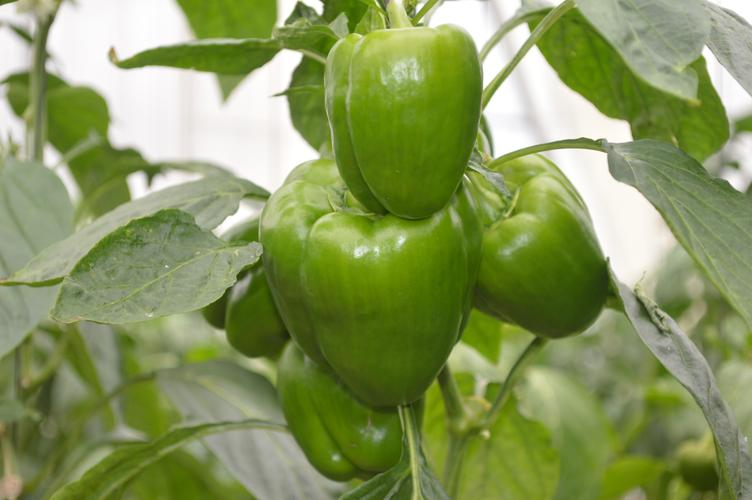BellPepper: (247, 160, 468, 408), (318, 20, 478, 220), (470, 152, 614, 355), (256, 337, 401, 495), (184, 215, 288, 369)
